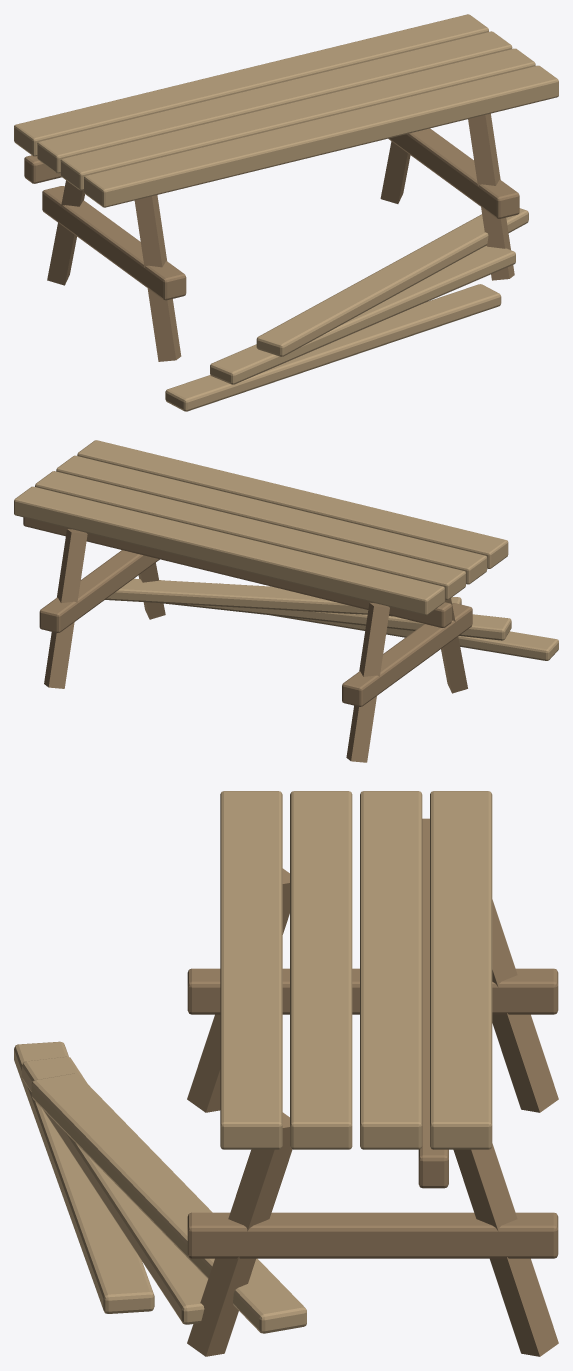
File: SM_SlackerFriendsHouse_Workbench.fbx
3 renders of one model, top to bottom at view 1: azimuth 30°, elevation 25°; view 2: azimuth 150°, elevation 25°; view 3: azimuth 270°, elevation 25°, orthographic. The views are drawn at different scales.
Parts seen in each view (by area): view 1: EXPORT_Unfinished_Table_Plank, EXPORT_Unfinished_Table_Plank.002, EXPORT_Unfinished_Table_Plank.003, EXPORT_Unfinished_Table_Plank.001, EXPORT_Loose_Plank.002, EXPORT_Loose_Plank, EXPORT_Loose_Plank.001, EXPORT_Workbench_Crossbar, EXPORT_Workbench_Crossbar.001, EXPORT_Workbench_Trestle, EXPORT_Workbench_Trestle.002, EXPORT_Workbench_Trestle.001 (+2 smaller); view 2: EXPORT_Unfinished_Table_Plank.003, EXPORT_Unfinished_Table_Plank.001, EXPORT_Unfinished_Table_Plank, EXPORT_Unfinished_Table_Plank.002, EXPORT_Loose_Plank.002, EXPORT_Workbench_Crossbar, EXPORT_Workbench_Unfinished_Frame, EXPORT_Workbench_Crossbar.001, EXPORT_Workbench_Trestle.003, EXPORT_Workbench_Trestle.001, EXPORT_Loose_Plank.001, EXPORT_Loose_Plank (+2 smaller); view 3: EXPORT_Unfinished_Table_Plank.002, EXPORT_Unfinished_Table_Plank, EXPORT_Unfinished_Table_Plank.001, EXPORT_Unfinished_Table_Plank.003, EXPORT_Workbench_Crossbar.001, EXPORT_Loose_Plank.002, EXPORT_Loose_Plank, EXPORT_Loose_Plank.001, EXPORT_Workbench_Trestle.003, EXPORT_Workbench_Trestle.002, EXPORT_Workbench_Crossbar, EXPORT_Workbench_Trestle.001 (+2 smaller).
Boxes of the visible parts, box(x1,y1,x2,y2) form: EXPORT_Unfinished_Table_Plank: box(84, 65, 558, 207); EXPORT_Unfinished_Table_Plank.002: box(37, 31, 512, 173); EXPORT_Unfinished_Table_Plank.003: box(14, 14, 488, 156); EXPORT_Unfinished_Table_Plank.001: box(60, 48, 535, 190); EXPORT_Loose_Plank.002: box(256, 208, 528, 356); EXPORT_Loose_Plank: box(165, 284, 501, 411); EXPORT_Loose_Plank.001: box(210, 245, 515, 384); EXPORT_Workbench_Crossbar: box(42, 186, 186, 300); EXPORT_Workbench_Crossbar.001: box(388, 128, 519, 218); EXPORT_Workbench_Trestle: box(134, 195, 181, 361); EXPORT_Workbench_Trestle.002: box(468, 113, 514, 280); EXPORT_Workbench_Trestle.001: box(47, 180, 84, 285); EXPORT_Unfinished_Table_Plank.003: box(14, 486, 444, 615); EXPORT_Unfinished_Table_Plank.001: box(56, 455, 487, 584); EXPORT_Unfinished_Table_Plank: box(77, 440, 508, 568); EXPORT_Unfinished_Table_Plank.002: box(35, 471, 465, 599); EXPORT_Loose_Plank.002: box(105, 578, 461, 616); EXPORT_Workbench_Crossbar: box(342, 603, 472, 706); EXPORT_Workbench_Unfinished_Frame: box(23, 517, 451, 627); EXPORT_Workbench_Crossbar.001: box(39, 550, 159, 633); EXPORT_Workbench_Trestle.003: box(44, 529, 87, 688); EXPORT_Workbench_Trestle.001: box(346, 602, 389, 762); EXPORT_Loose_Plank.001: box(159, 580, 511, 640); EXPORT_Loose_Plank: box(219, 583, 558, 660); EXPORT_Unfinished_Table_Plank.002: box(360, 791, 422, 1149); EXPORT_Unfinished_Table_Plank: box(220, 791, 282, 1149); EXPORT_Unfinished_Table_Plank.001: box(290, 791, 352, 1149); EXPORT_Unfinished_Table_Plank.003: box(430, 791, 492, 1149); EXPORT_Workbench_Crossbar.001: box(187, 1212, 558, 1258); EXPORT_Loose_Plank.002: box(31, 1073, 306, 1333); EXPORT_Loose_Plank: box(14, 1041, 154, 1313); EXPORT_Loose_Plank.001: box(22, 1056, 207, 1324); EXPORT_Workbench_Trestle.003: box(453, 1143, 558, 1356); EXPORT_Workbench_Trestle.002: box(187, 1112, 292, 1356); EXPORT_Workbench_Crossbar: box(187, 968, 558, 1014); EXPORT_Workbench_Trestle.001: box(492, 899, 558, 1112).
Size of the model in its own units: 265 by 179 by 99.87.
